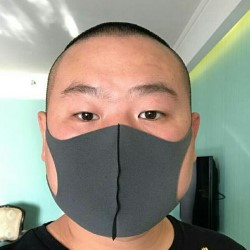mask: (22, 112, 193, 233)
